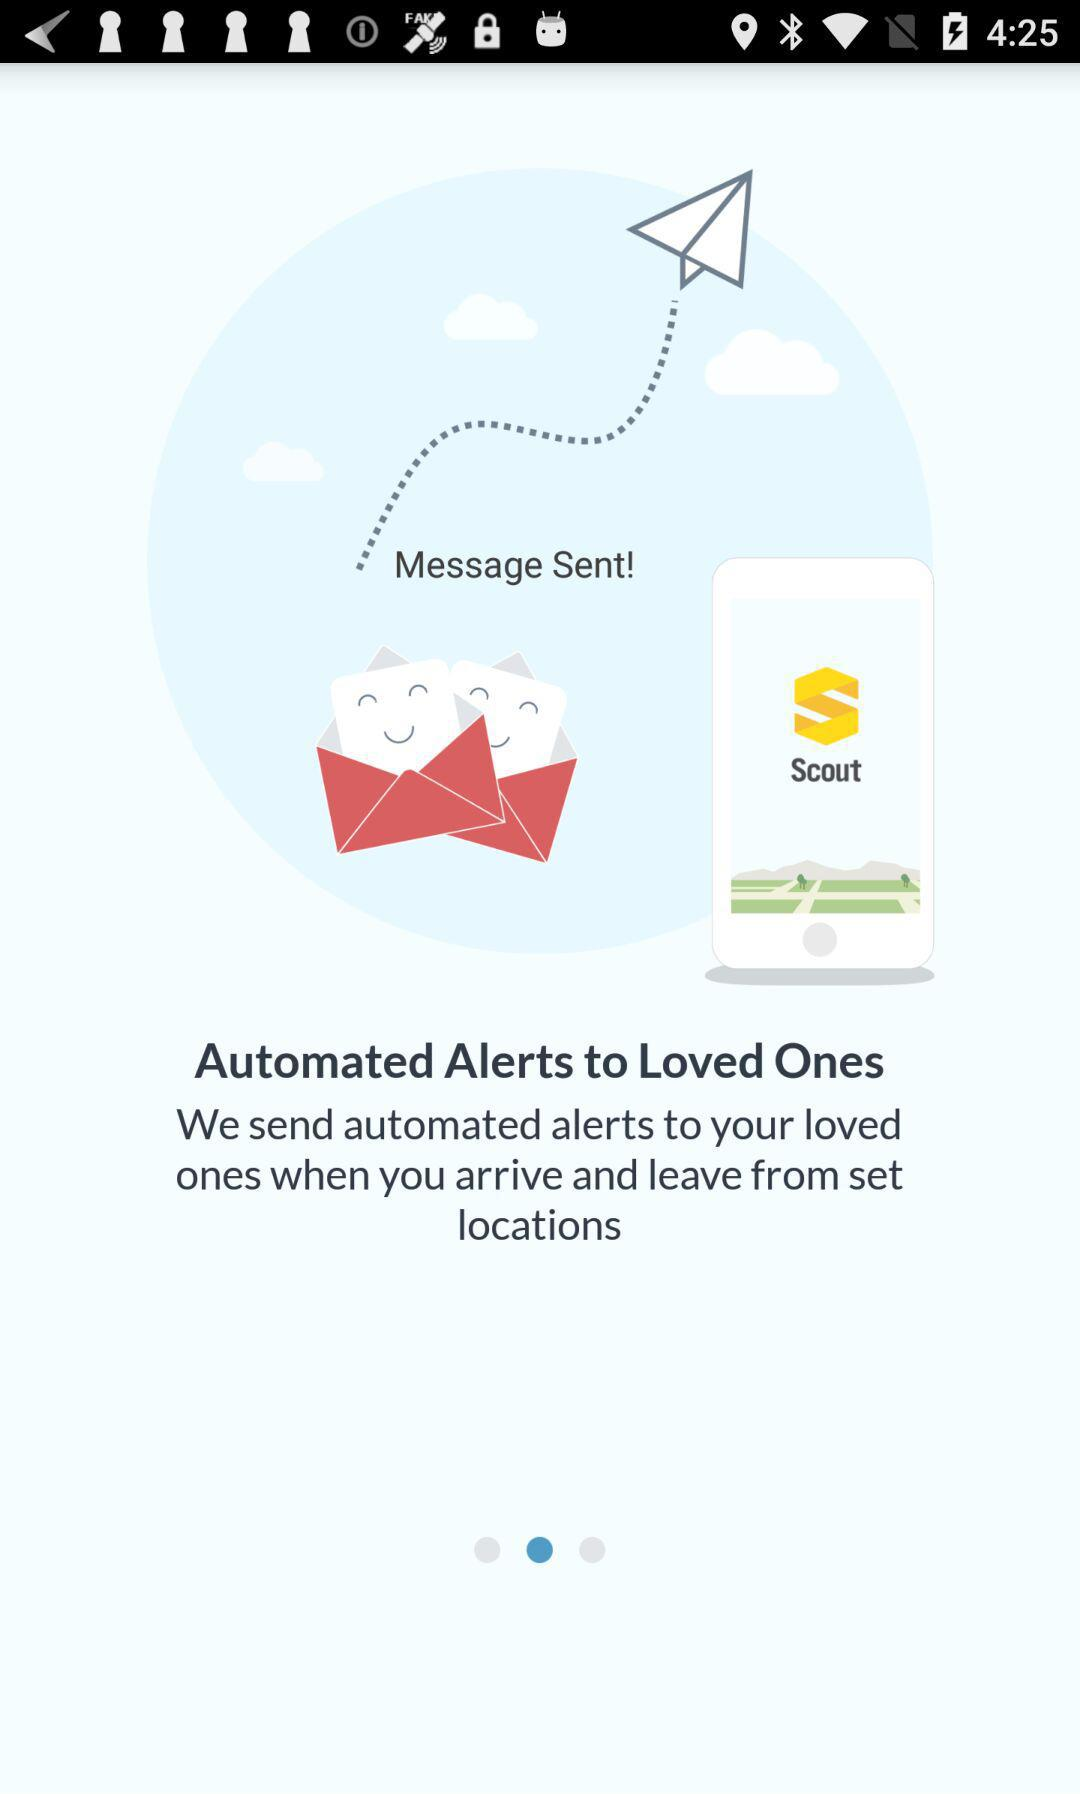Image: (146, 167, 937, 987)
PageIndicator: (473, 1535, 607, 1565)
Text: (176, 1107, 904, 1242), (193, 1041, 885, 1082)
UpperTaskBar: (1, 1, 1080, 64)
